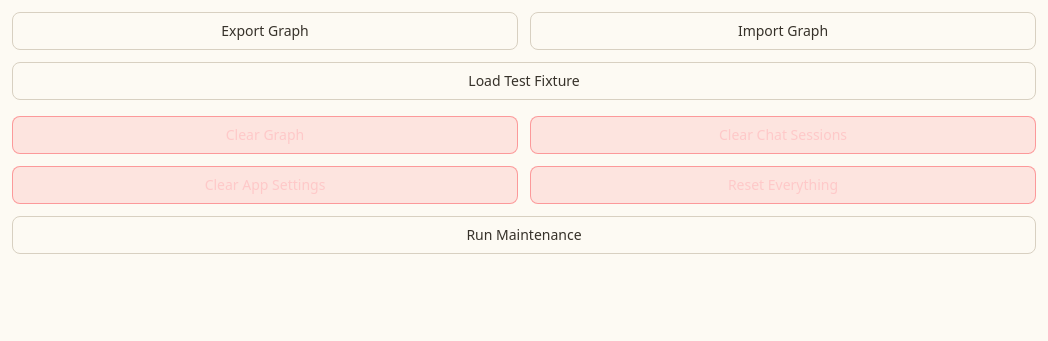
Test: DataMaintenanceSection › shows an inline error when an imported graph is invalid
This screenshot has width=1048, height=341.
Click the button "Import Graph".
click(783, 31)  # box x1=530 y1=12 x2=1036 y2=50
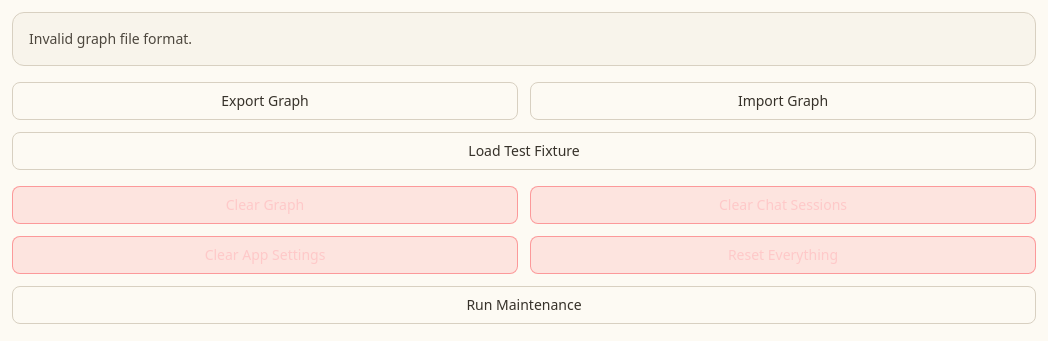
Result: the text "Invalid graph file format." is shown at x1=12 y1=12 x2=1036 y2=66
